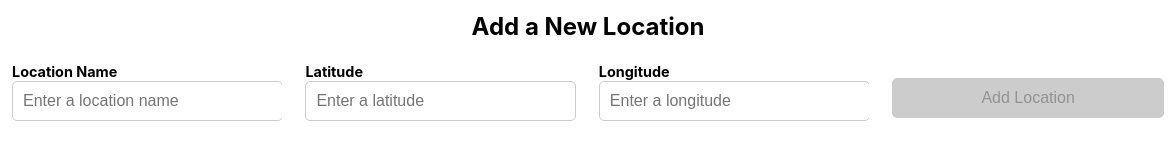
Test: submit is enabled when all fields are filled
Expected: the button "Add Location" is disabled, [892,78,1164,118]
Type "New York" into the field labelled "Location Name" at coordinates (147, 101), box [12,81,283,121]
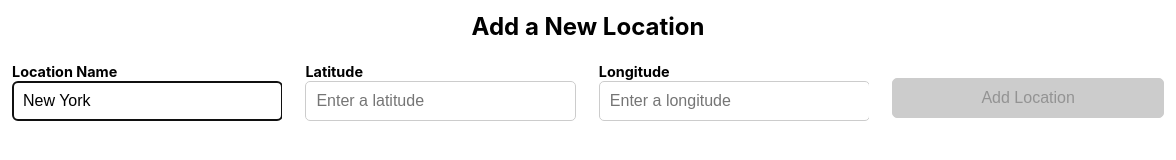
Type "40.7128" into the number field labelled "Latitude" at coordinates (441, 101), box [305,81,576,121]
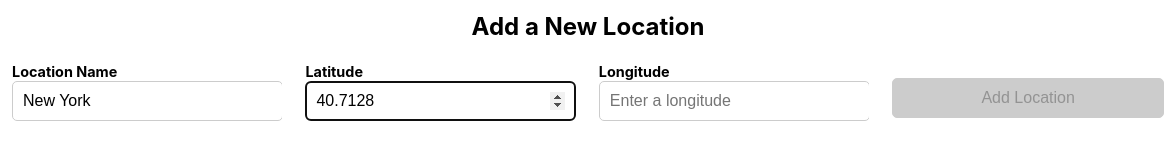
Type "-74.006" into the number field labelled "Longitude" at coordinates (734, 101), box [599,81,870,121]
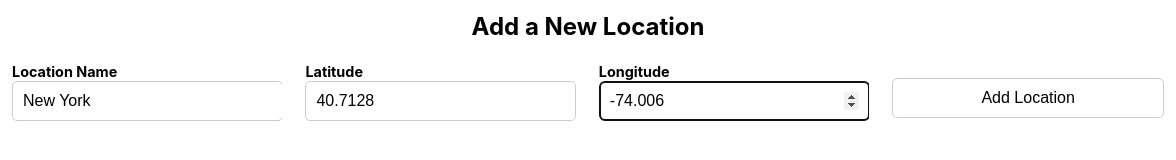
Expected: the button "Add Location" is enabled, [892,78,1164,118]
